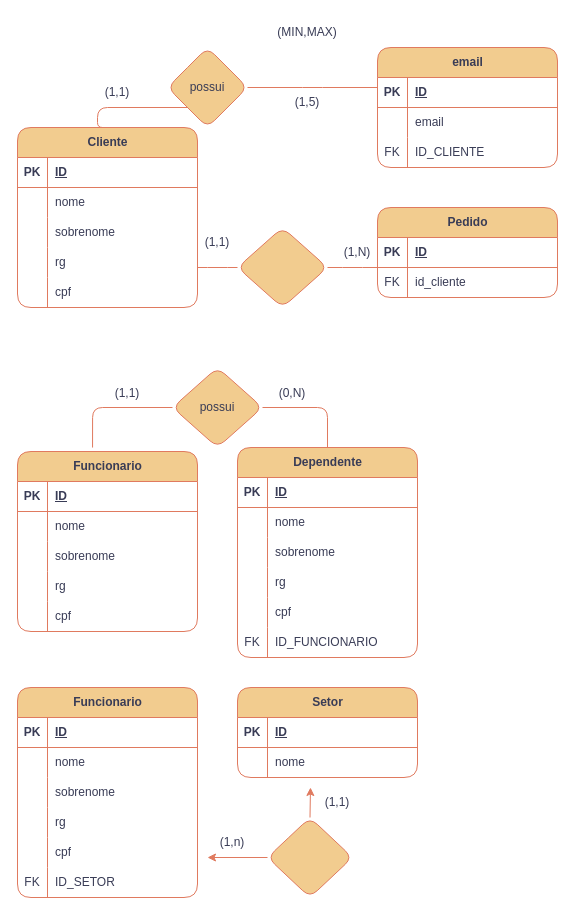
Some shapes in this 575 by 915 pixel diagram are drawn without their labels. The centre of each missing label's shape, as x and y in pixels:
"faz" belongs at [282,267].
"trabalha" belongs at [309,857].
